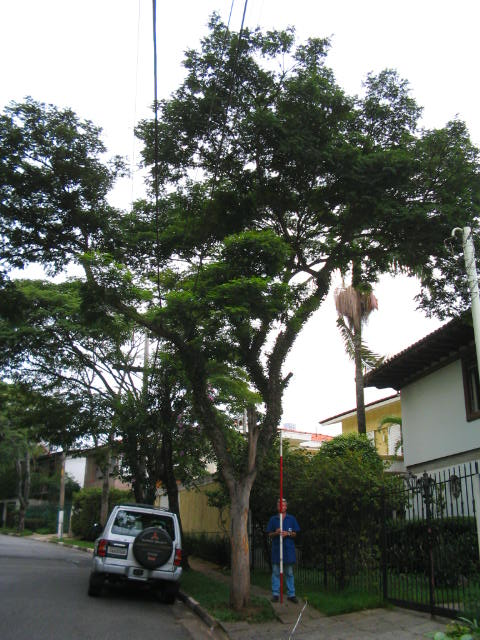crown: (3, 8, 476, 351)
stem: (214, 478, 262, 608)
stick: (272, 431, 288, 603)
tree: (2, 9, 478, 610)
